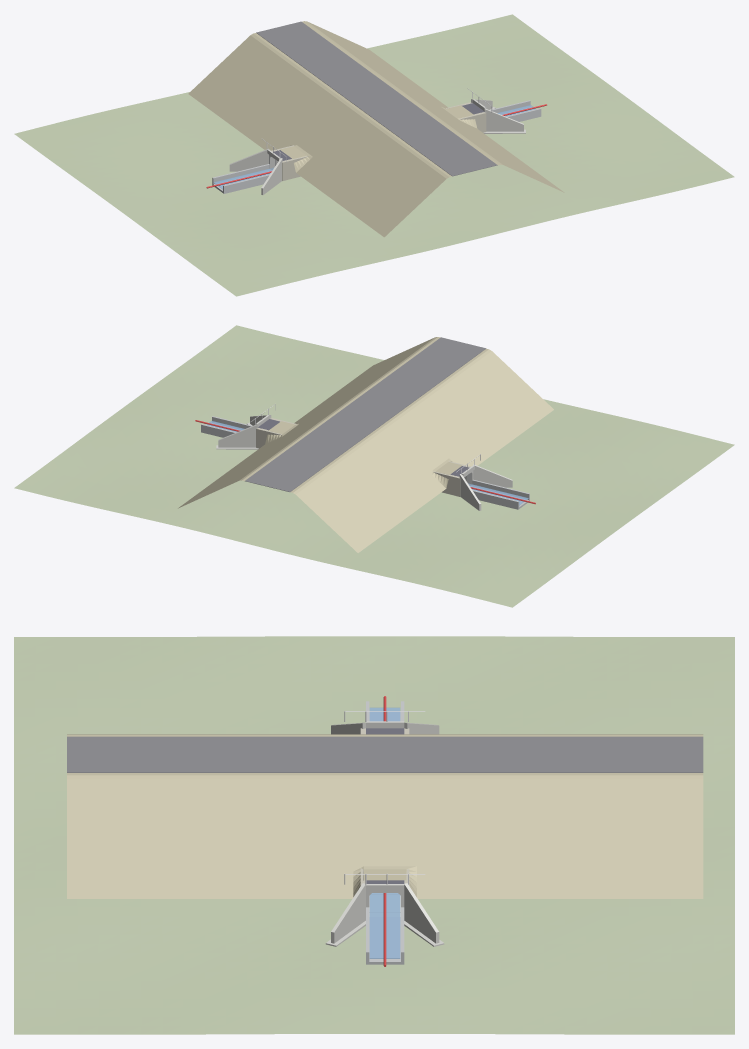
3 views of the same model, one above another, from view 1: azimuth 30°, elevation 25°; view 2: azimuth 150°, elevation 25°; view 3: azimuth 270°, elevation 25° (orthographic). The views are drawn at different scales.
Parts seen in each view (by area): view 1: 地形|現況地形 (参考), 土工|道路盛土 (参考, 天端幅9.5m H=5.0m 法1:1.5), 道路|道路舗装 (参考), 取付水路|取付水路 (上流, コンクリート三面張り L=10m), 裏込め|裏込め砕石 (BOX 側面, 幅0.5m), 翼壁|翼壁 (下流左, 斜め30° L=6m), 取付水路|取付水路 (下流, コンクリート三面張り L=10m), 翼壁|翼壁 (上流右, 斜め30° L=6m), 地形|水面 (参考); view 2: 地形|現況地形 (参考), 土工|道路盛土 (参考, 天端幅9.5m H=5.0m 法1:1.5), 道路|道路舗装 (参考), 取付水路|取付水路 (上流, コンクリート三面張り L=10m), 裏込め|裏込め砕石 (BOX 側面, 幅0.5m), 翼壁|翼壁 (下流右, 斜め30° L=6m), 取付水路|取付水路 (下流, コンクリート三面張り L=10m), 翼壁|翼壁 (上流左, 斜め30° L=6m), 地形|水面 (参考); view 3: 地形|現況地形 (参考), 土工|道路盛土 (参考, 天端幅9.5m H=5.0m 法1:1.5), 道路|道路舗装 (参考), 地形|水面 (参考), 取付水路|取付水路 (下流, コンクリート三面張り L=10m), 翼壁|翼壁 (下流右, 斜め30° L=6m), 翼壁|翼壁 (下流左, 斜め30° L=6m).
Boxes of the visible parts, x1,y1,x2,y2 form: 地形|現況地形 (参考): (14,14,734,296); 土工|道路盛土 (参考, 天端幅9.5m H=5.0m 法1:1.5): (188,21,564,237); 道路|道路舗装 (参考): (256,21,497,176); 取付水路|取付水路 (上流, コンクリート三面張り L=10m): (212,164,269,193); 裏込め|裏込め砕石 (BOX 側面, 幅0.5m): (271,102,486,181); 翼壁|翼壁 (下流左, 斜め30° L=6m): (484,108,523,131); 取付水路|取付水路 (下流, コンクリート三面張り L=10m): (490,100,541,121); 翼壁|翼壁 (上流右, 斜め30° L=6m): (229,148,268,171); 地形|水面 (参考): (213,105,535,189); 地形|現況地形 (参考): (14,325,734,607); 土工|道路盛土 (参考, 天端幅9.5m H=5.0m 法1:1.5): (178,337,553,552); 道路|道路舗装 (参考): (245,337,485,491); 取付水路|取付水路 (上流, コンクリート三面張り L=10m): (472,479,529,509); 裏込め|裏込め砕石 (BOX 側面, 幅0.5m): (256,418,470,496); 翼壁|翼壁 (下流右, 斜め30° L=6m): (218,424,257,447); 取付水路|取付水路 (下流, コンクリート三面張り L=10m): (201,416,252,437); 翼壁|翼壁 (上流左, 斜め30° L=6m): (473,464,512,487); 地形|水面 (参考): (206,421,528,505); 地形|現況地形 (参考): (14,636,734,1034); 土工|道路盛土 (参考, 天端幅9.5m H=5.0m 法1:1.5): (67,734,703,898); 道路|道路舗装 (参考): (67,736,703,772); 地形|水面 (参考): (369,707,400,958); 取付水路|取付水路 (下流, コンクリート三面張り L=10m): (366,907,404,964); 翼壁|翼壁 (下流右, 斜め30° L=6m): (404,883,439,943); 翼壁|翼壁 (下流左, 斜め30° L=6m): (331,883,365,943).
Size of the model in its own units: 88 by 9.35 by 68.
